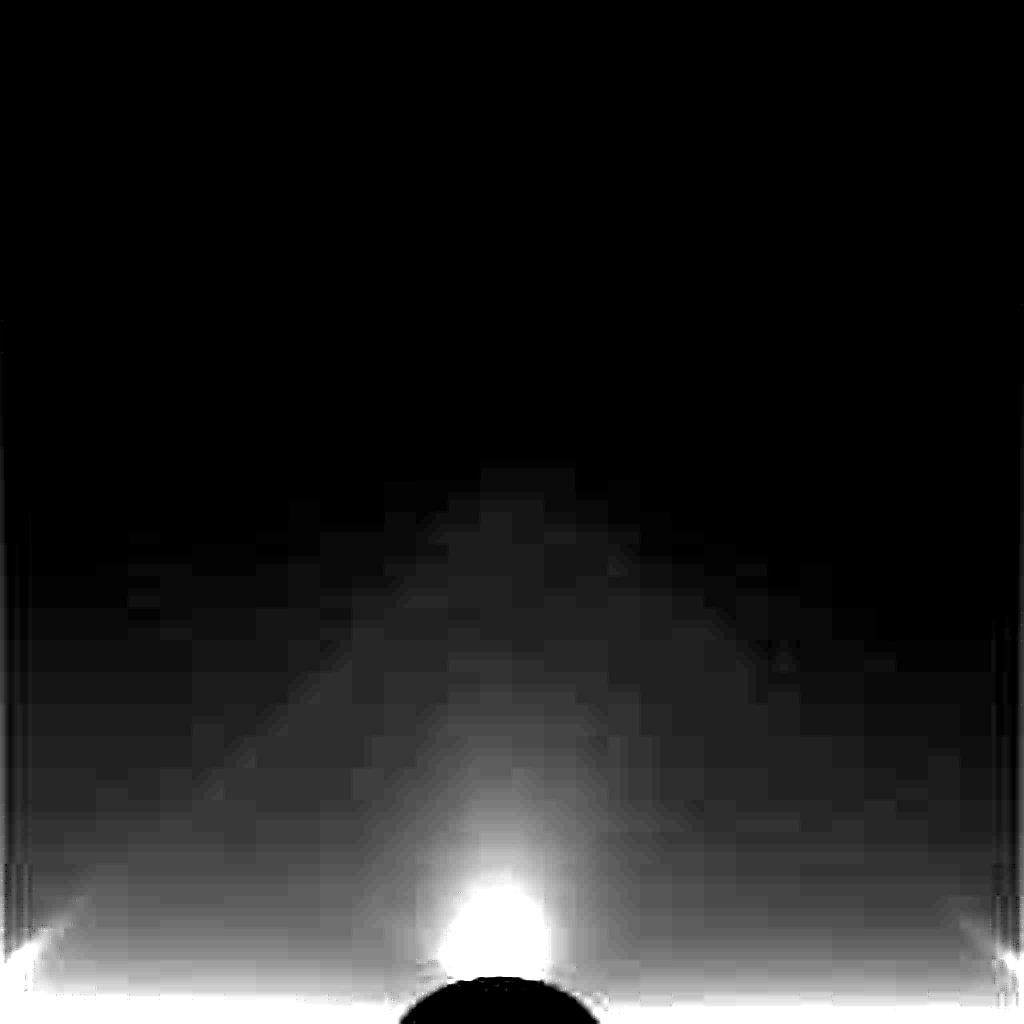plumes: (436, 880, 555, 984)
